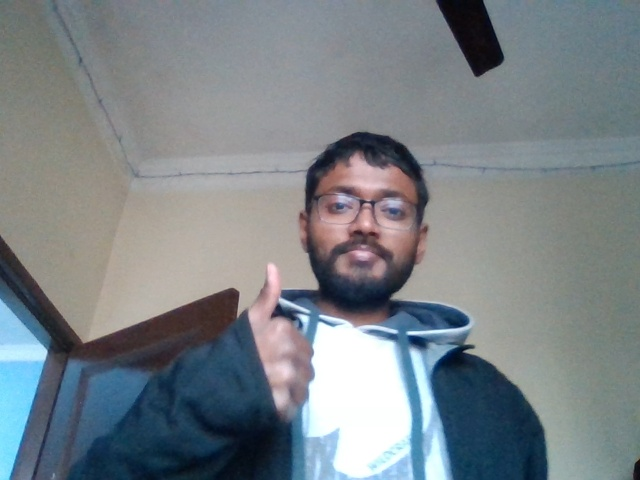good: (230, 257, 324, 419)
